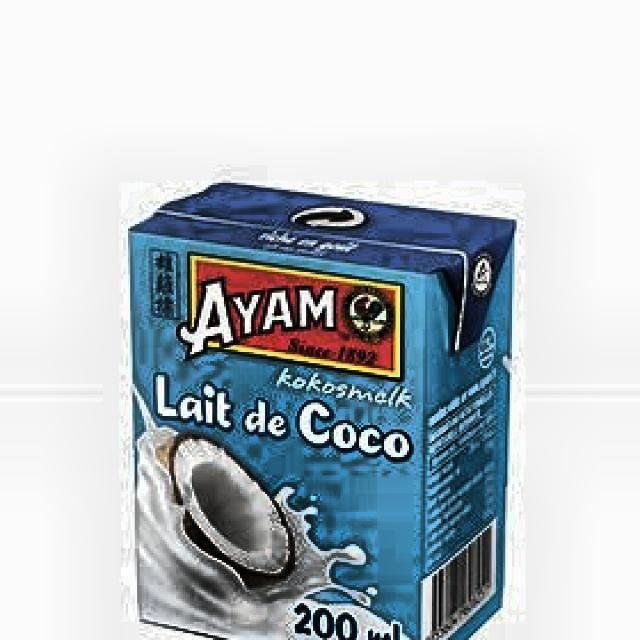cardboard: (126, 178, 516, 640)
